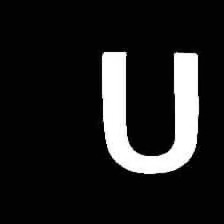LTR_U: (91, 38, 203, 182)
